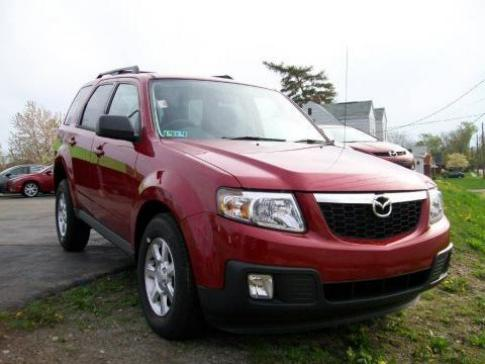Car: (46, 51, 472, 347)
